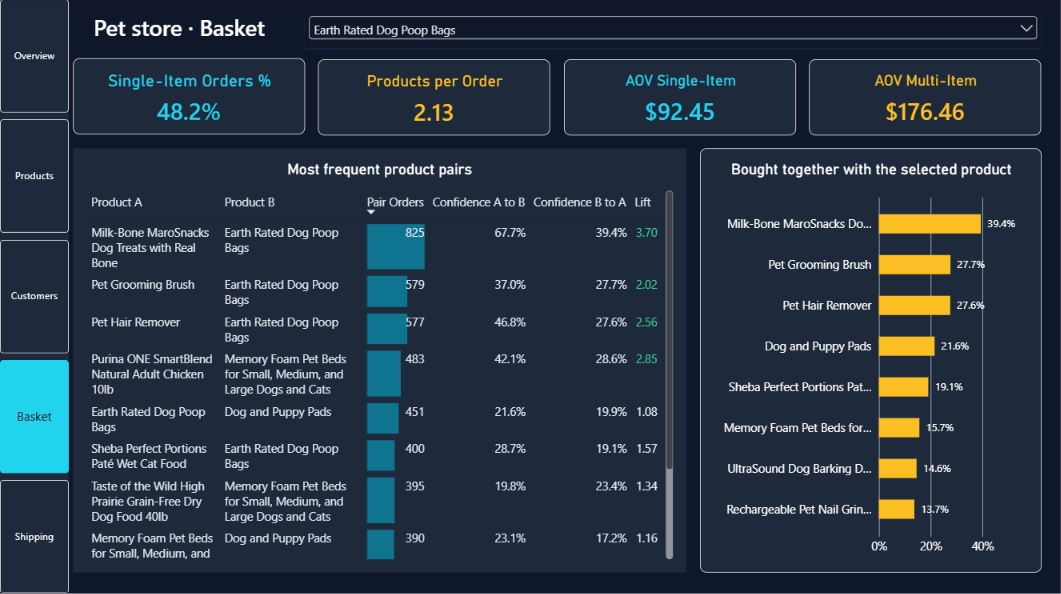

What the dashboard file says about the page in this screenshot:
{"tool":"powerbi","page":{"name":"Basket","canvas":[1280,720],"ordinal":3},"visuals":[{"type":"shape","box":[0,0,83,720],"z":0},{"type":"textbox","box":[63.6,16.2,304.5,53.7],"z":1000},{"type":"card","title":"Single-Item Orders %","fields":{"Values":["Sales.Single-Item Orders %"]},"box":[88,71,280,92],"z":2000},{"type":"card","title":"Products per Order","fields":{"Values":["Sales.Products per Order"]},"box":[384,72,280,92],"z":3000},{"type":"card","title":"AOV Single-Item","fields":{"Values":["Sales.AOV Single-Item"]},"box":[680,72,280,92],"z":4000},{"type":"card","title":"AOV Multi-Item","fields":{"Values":["Sales.AOV Multi-Item"]},"box":[976,72,280,92],"z":5000},{"type":"slicer","title":"Product A","fields":{"Values":["Products.Description"]},"box":[368,15.7,888.1,43.4],"z":6000},{"type":"tableEx","title":"Most frequent product pairs","fields":{"Values":["Products.Description","Products B.Description B","Sales.Pair Orders","Sales.Confidence A to B","Sales.Confidence B to A","Sales.Lift"]},"box":[88,180,740,512],"z":6001},{"type":"clusteredBarChart","title":"Bought together with the selected product","fields":{"Category":["Products B.Description B"],"Y":["Sales.Confidence A to B"]},"box":[844,180,412,512],"z":6002},{"type":"pageNavigator","box":[0,0,83.2,720.2],"z":6003}]}

Visuals, with their boxes on the page's 1280x720 design canvas (x1, y1, x2, y2). These are canvas units, not pixel positions in the 1061x594 screenshot, which may show the page scaled, cropped or inside an application window:
shape: {"x1": 0, "y1": 0, "x2": 83, "y2": 720}
textbox: {"x1": 64, "y1": 16, "x2": 368, "y2": 70}
"Single-Item Orders %" card: {"x1": 88, "y1": 71, "x2": 368, "y2": 163}
"Products per Order" card: {"x1": 384, "y1": 72, "x2": 664, "y2": 164}
"AOV Single-Item" card: {"x1": 680, "y1": 72, "x2": 960, "y2": 164}
"AOV Multi-Item" card: {"x1": 976, "y1": 72, "x2": 1256, "y2": 164}
"Product A" slicer: {"x1": 368, "y1": 16, "x2": 1256, "y2": 59}
"Most frequent product pairs" tableEx: {"x1": 88, "y1": 180, "x2": 828, "y2": 692}
"Bought together with the selected product" clusteredBarChart: {"x1": 844, "y1": 180, "x2": 1256, "y2": 692}
pageNavigator: {"x1": 0, "y1": 0, "x2": 83, "y2": 720}
